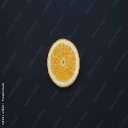orange: (45, 36, 80, 91)
